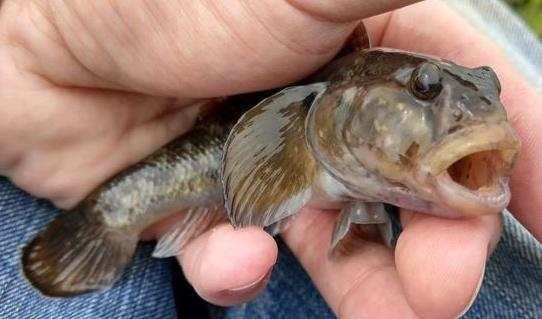Goby: (16, 48, 520, 295)
